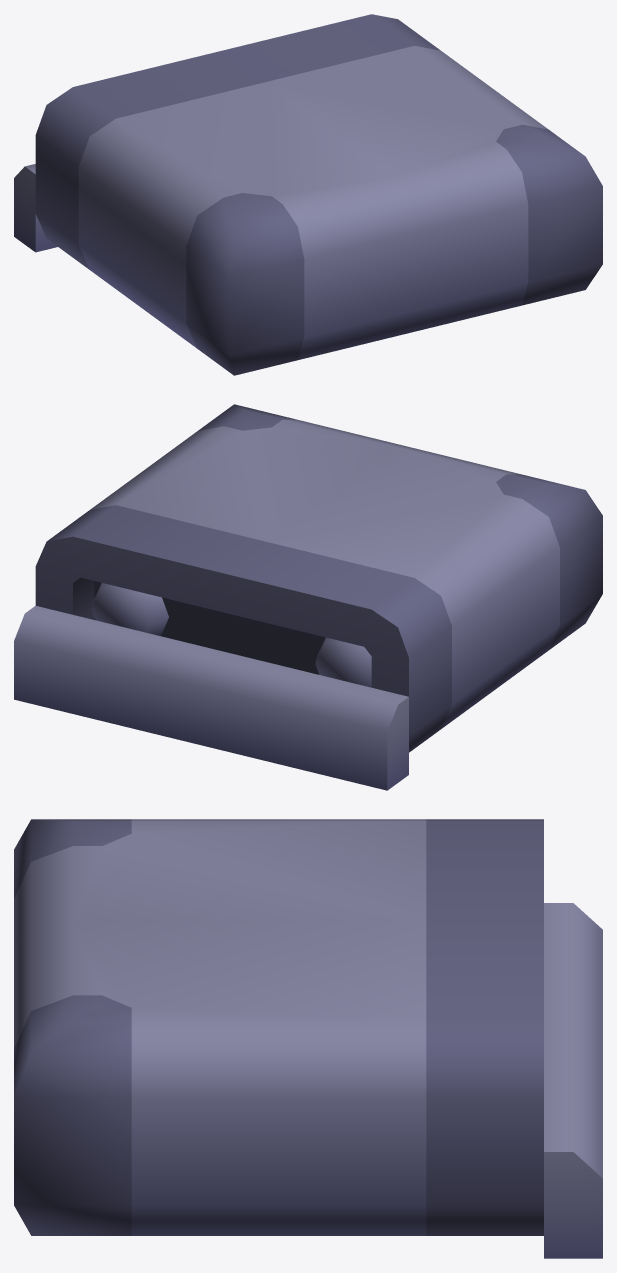
File: conveyor-stripe-sides-junction-t.glb
The picture shows the model from 3 angles, top to bottom: view 1: azimuth 30°, elevation 25°; view 2: azimuth 150°, elevation 25°; view 3: azimuth 270°, elevation 25°; orthographic projection. The views are drawn at different scales.
Parts seen in each view (by area): view 1: conveyor-stripe-sides-junction-t; view 2: conveyor-stripe-sides-junction-t; view 3: conveyor-stripe-sides-junction-t.
Part boxes in pixels (left/top/right/bottom): conveyor-stripe-sides-junction-t: left=14, top=14, right=602, bottom=375; conveyor-stripe-sides-junction-t: left=14, top=404, right=602, bottom=790; conveyor-stripe-sides-junction-t: left=14, top=819, right=602, bottom=1258.
Size of the model in its own units: 1 by 0.4 by 1.
